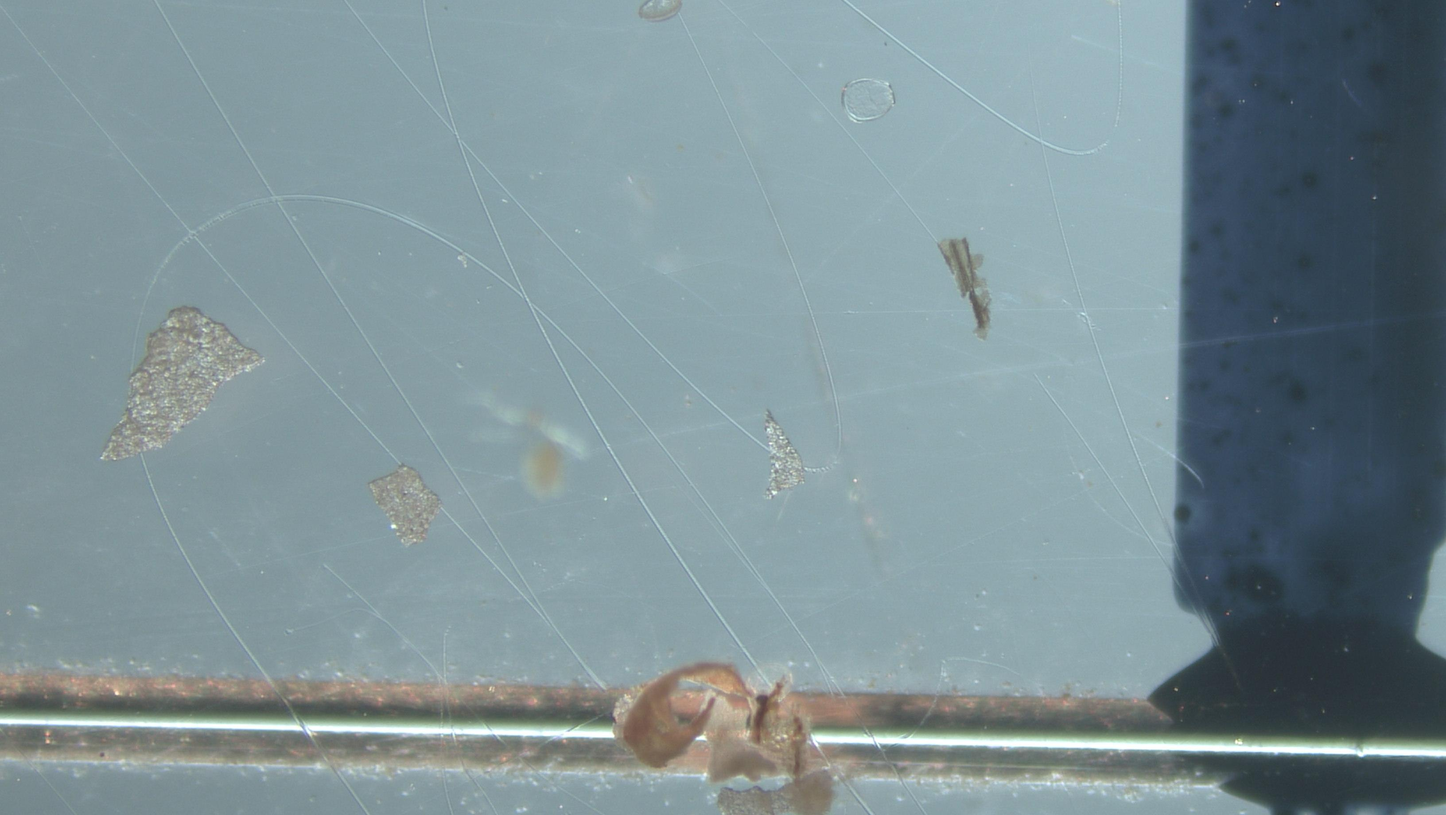dead: (842, 78, 895, 123)
